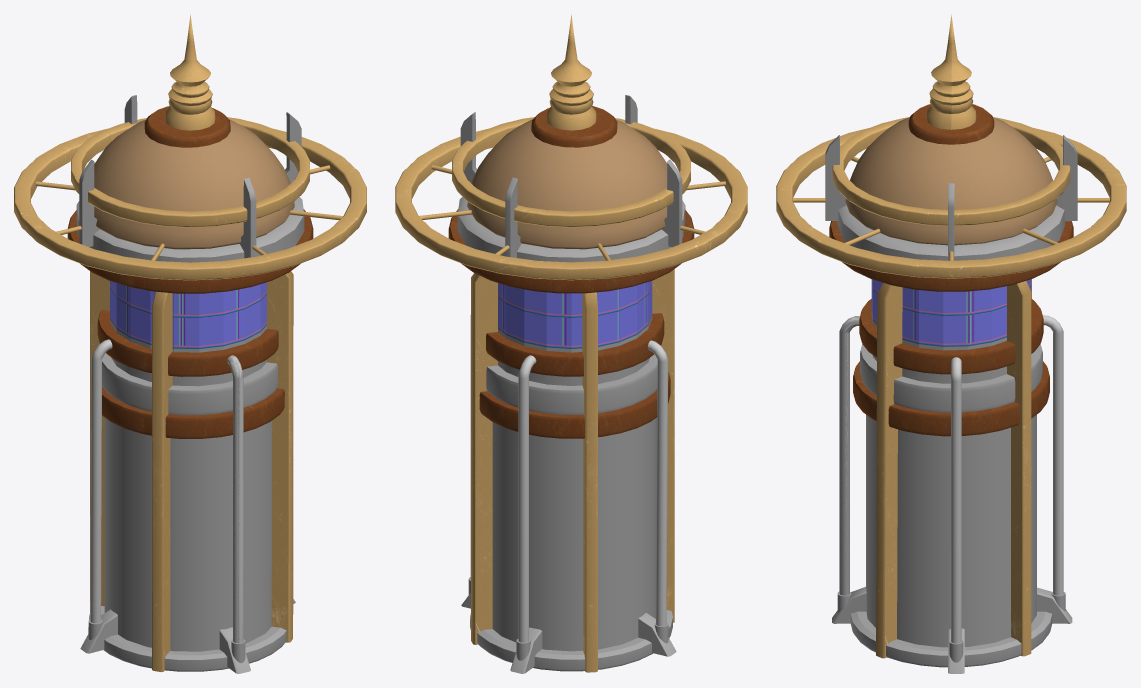
The model's file is Tower_04.fbx.
3 views of the same model, side by side, from view 1: azimuth 30°, elevation 25°; view 2: azimuth 150°, elevation 25°; view 3: azimuth 270°, elevation 25° (orthographic).
Visible parts, largest first — view 1: Tower_04; view 2: Tower_04; view 3: Tower_04.
Boxes of the visible parts, x1,y1,x2,y2 form: Tower_04: (14,14,366,673); Tower_04: (395,14,747,673); Tower_04: (776,14,1126,673).
Bounding box in the file's own units: 269 × 515 × 267.
